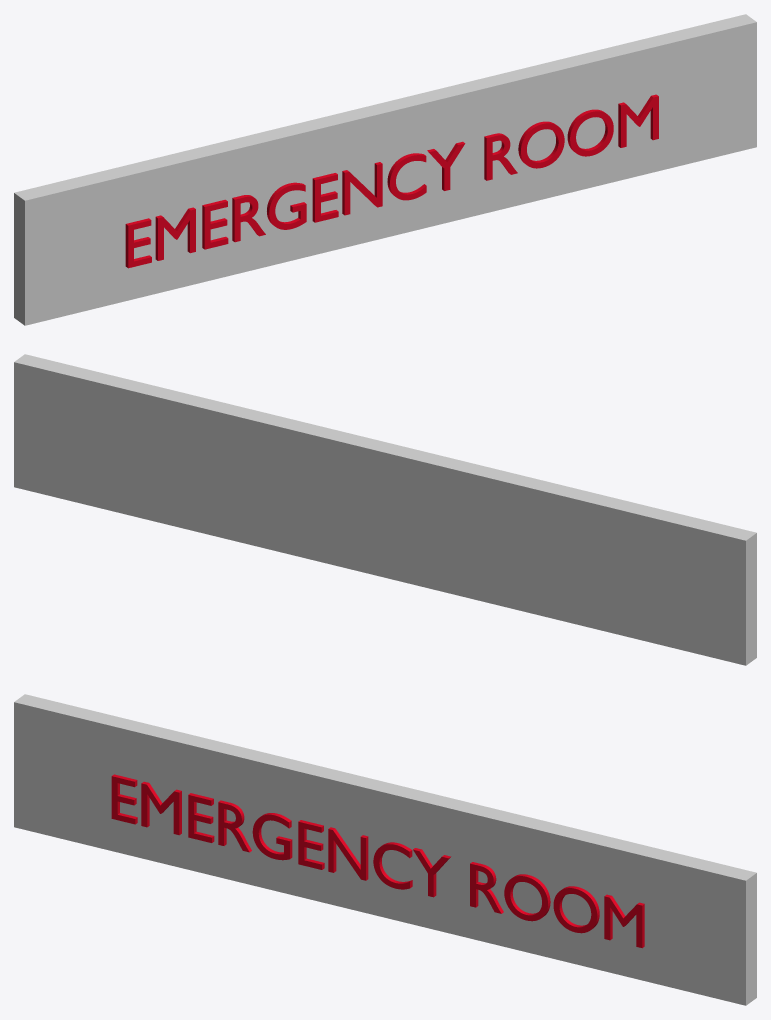
File: emergency room.fbx
3 views of the same model, one above another, from view 1: azimuth 30°, elevation 25°; view 2: azimuth 150°, elevation 25°; view 3: azimuth 330°, elevation 25° (orthographic).
Parts seen in each view (by area): view 1: Cube, Text; view 2: Cube; view 3: Cube, Text.
Part boxes in pixels (box(x1,y1,x2,y2)): Cube: box(14, 14, 756, 325); Text: box(125, 94, 658, 268); Cube: box(14, 354, 756, 665); Cube: box(14, 694, 756, 1005); Text: box(111, 774, 644, 948).
Size of the model in its own units: 1225 by 200 by 39.86.
